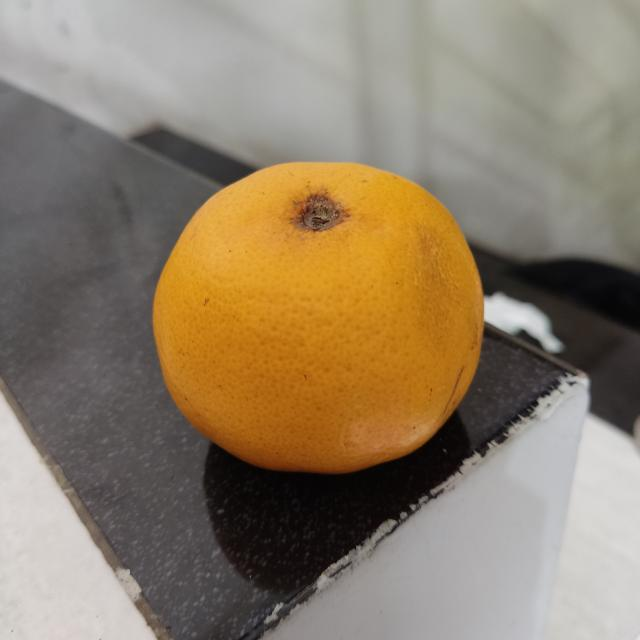orange: (149, 159, 487, 474)
